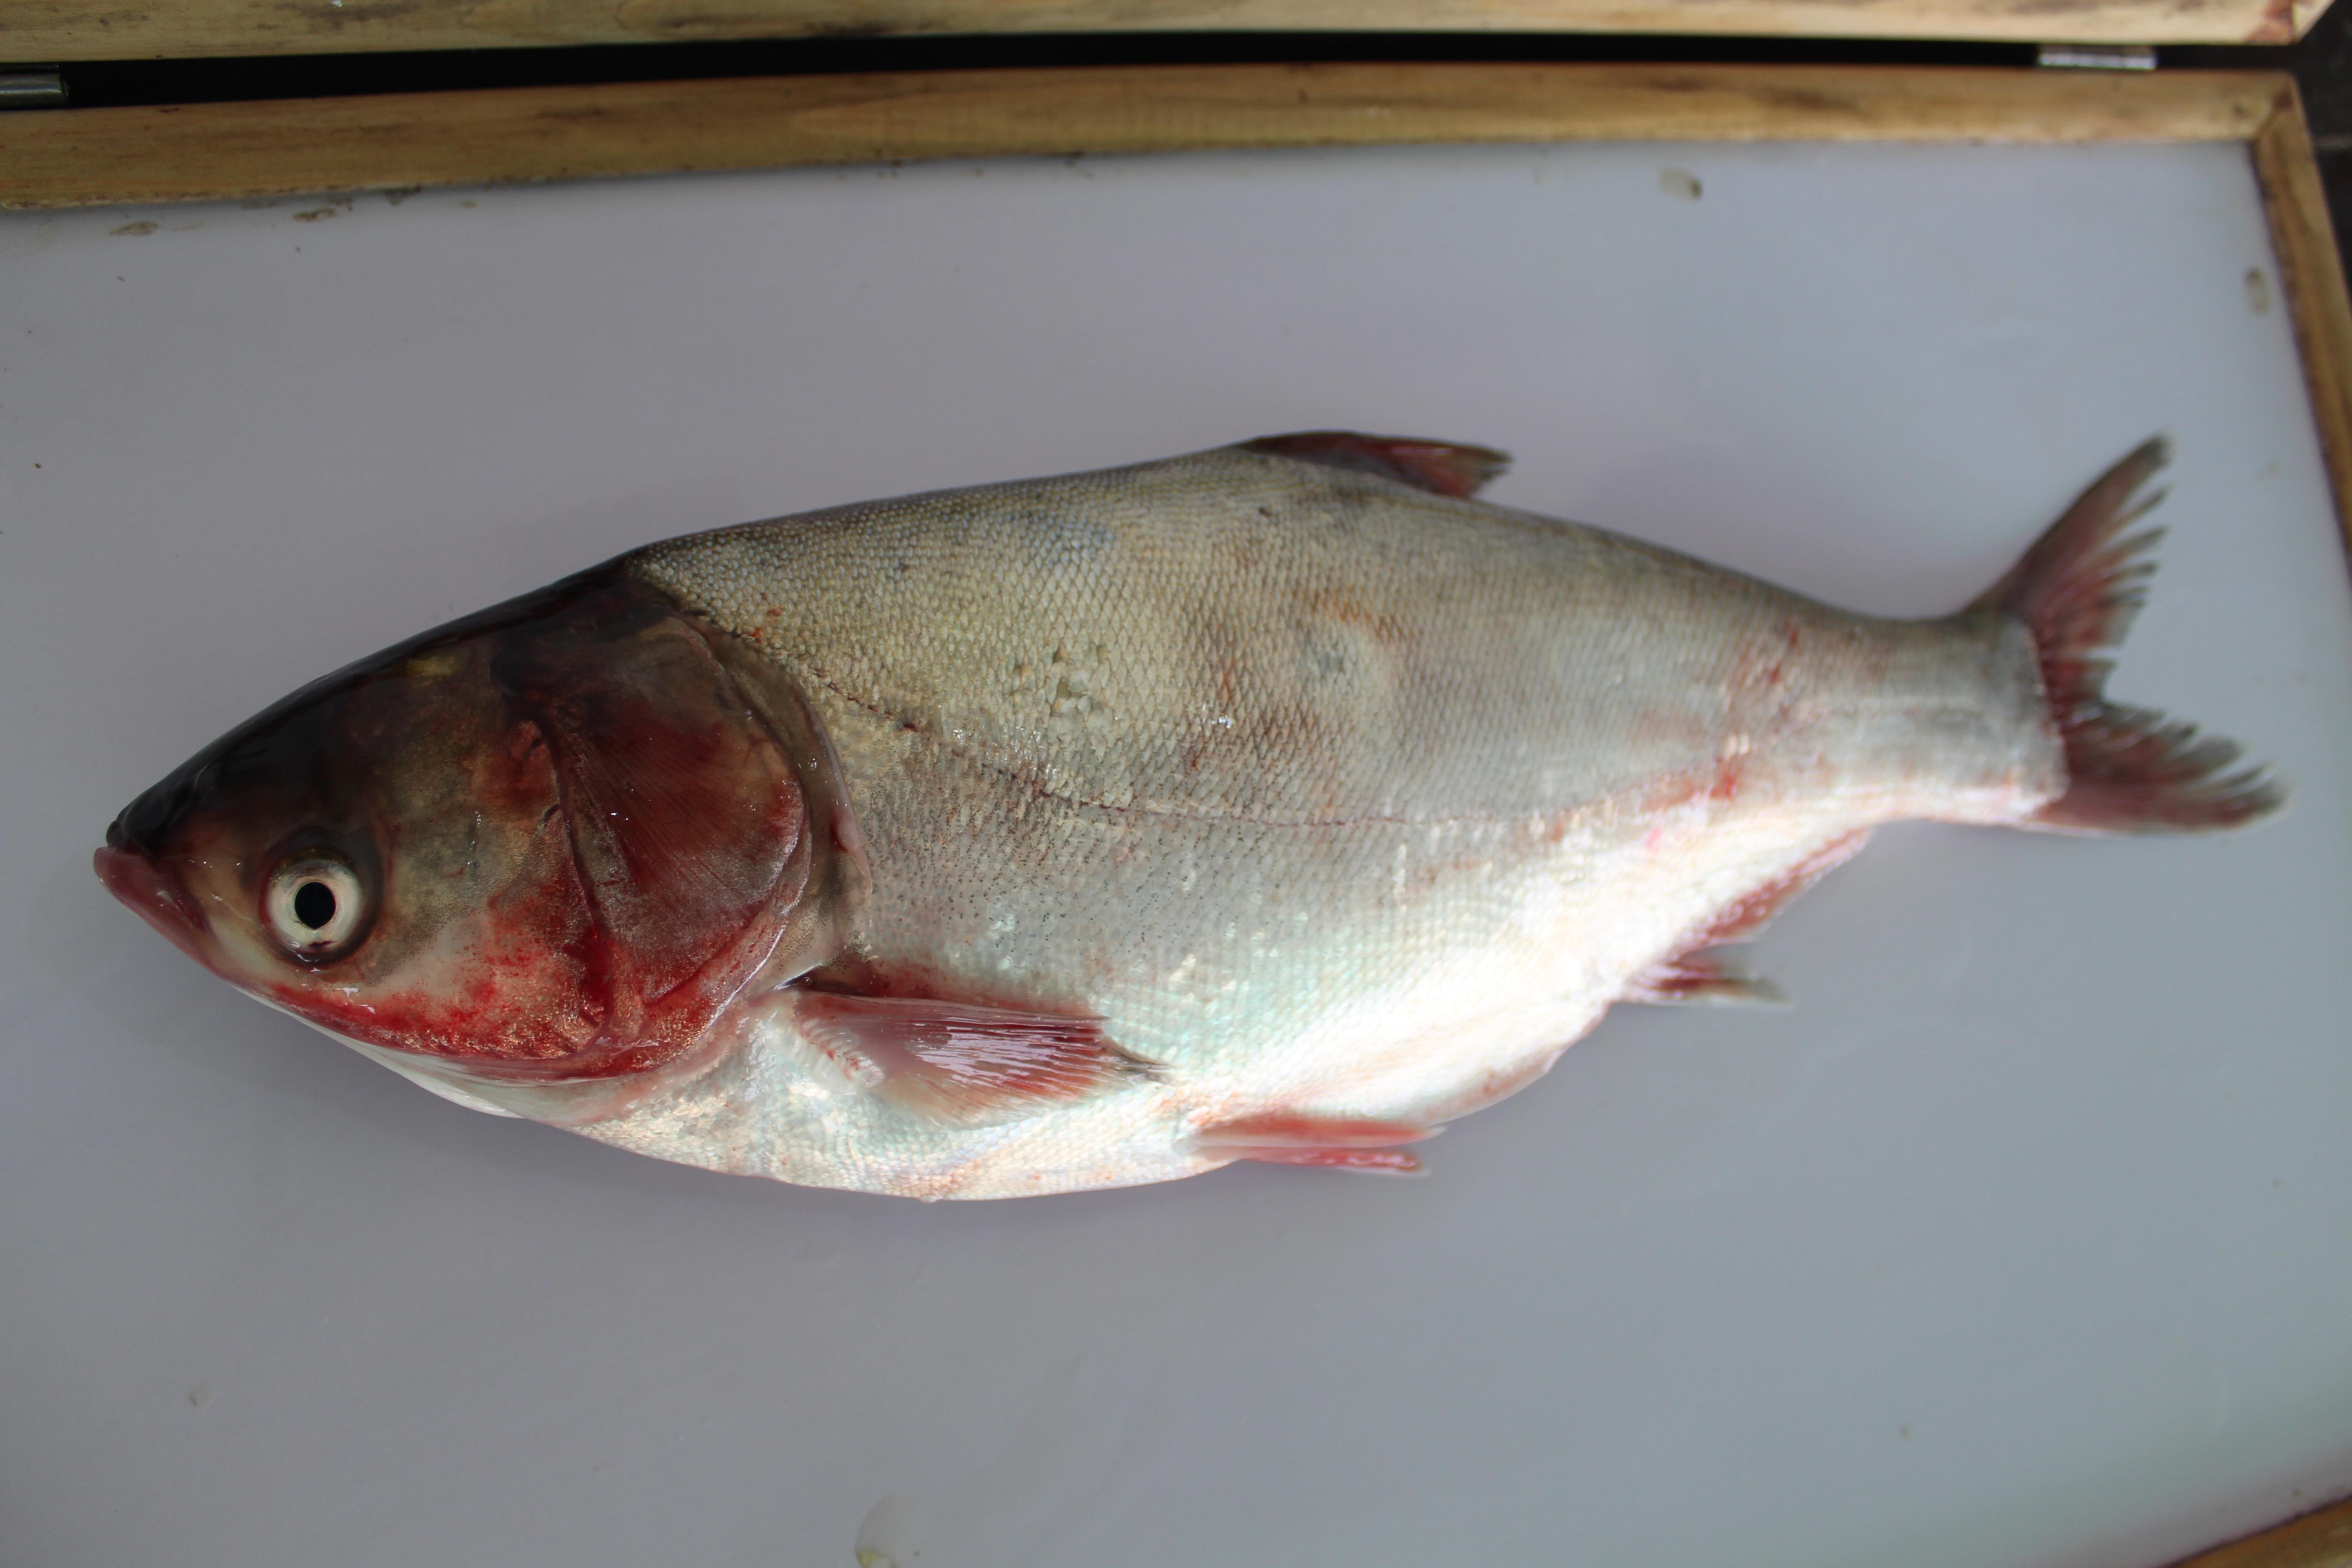Silver Carp: (93, 413, 2287, 1216)
